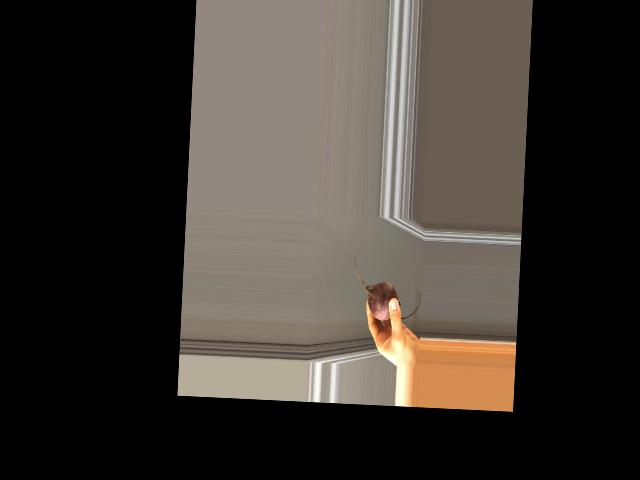beet: (352, 256, 423, 321)
